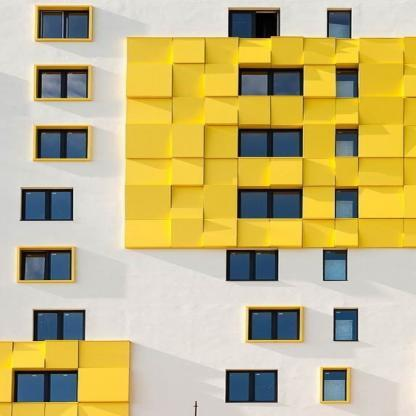Building Outline: (1, 0, 415, 416)
Dont: (193, 401, 199, 416)
Facade: (0, 0, 415, 415)
Floor: (1, 238, 415, 297), (1, 116, 415, 175), (1, 300, 415, 357), (1, 178, 415, 235), (1, 56, 415, 113), (1, 0, 415, 53), (1, 360, 415, 412)
Floor Slab: (1, 412, 415, 416), (1, 53, 415, 56), (1, 113, 415, 116), (1, 175, 415, 178), (1, 235, 415, 238), (1, 297, 415, 300), (1, 357, 415, 360)
Window: (15, 371, 78, 403), (238, 189, 303, 219), (239, 128, 303, 157), (239, 68, 303, 96), (227, 370, 278, 403), (22, 189, 73, 221), (34, 310, 85, 341), (227, 250, 278, 281), (20, 250, 71, 280), (250, 310, 301, 340), (38, 69, 89, 98), (229, 10, 280, 39), (38, 130, 87, 159), (40, 11, 88, 39), (334, 310, 358, 342), (323, 370, 347, 401), (323, 250, 347, 281), (335, 189, 358, 219), (328, 10, 351, 39), (335, 69, 358, 97), (335, 129, 358, 156)
Window Outline: (124, 36, 416, 249), (0, 340, 131, 416)
